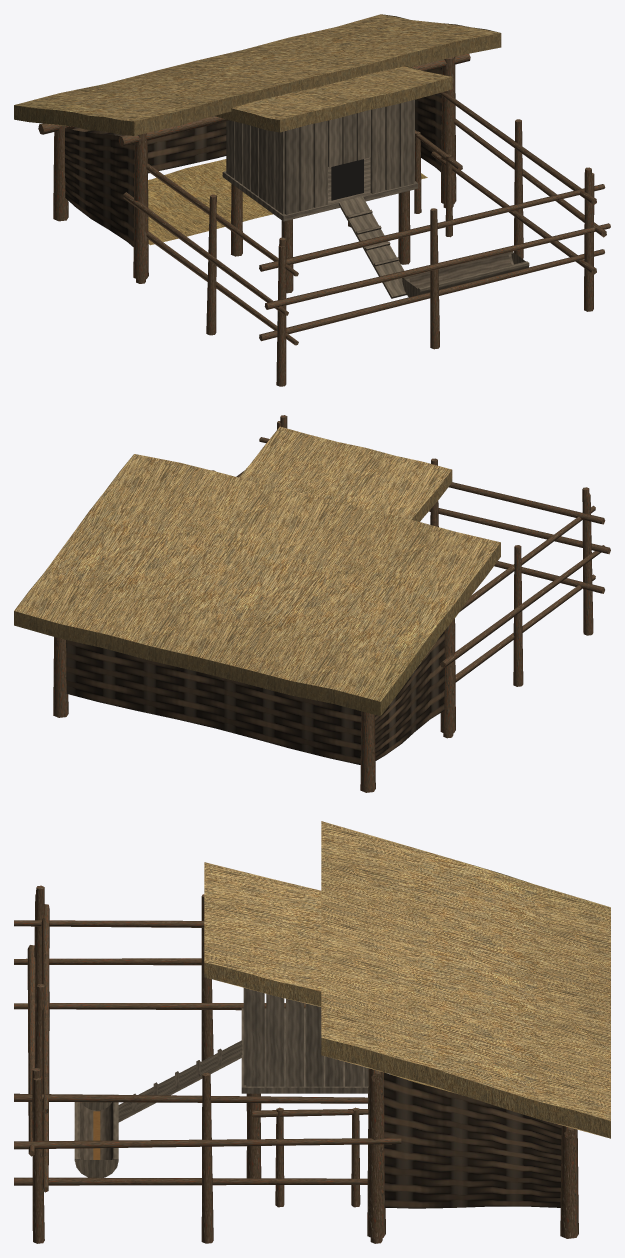
File: yard.glb
3 views of the same model, one above another, from view 1: azimuth 30°, elevation 25°; view 2: azimuth 150°, elevation 25°; view 3: azimuth 270°, elevation 25° (orthographic). The views are drawn at different scales.
Visible parts, largest first — view 1: sikolatti, kanakoppi; view 2: sikolatti, kanakoppi; view 3: sikolatti, kanakoppi.
Part boxes in pixels (x1,y1,x2,y2): sikolatti: (14, 14, 610, 386); kanakoppi: (215, 66, 462, 298); sikolatti: (14, 415, 610, 792); kanakoppi: (239, 426, 452, 521); sikolatti: (14, 821, 610, 1243); kanakoppi: (118, 862, 387, 1207).
Bounding box in the file's own units: 3.7 × 1.92 × 4.33.
Materials: 6 (5 with a texture image).
